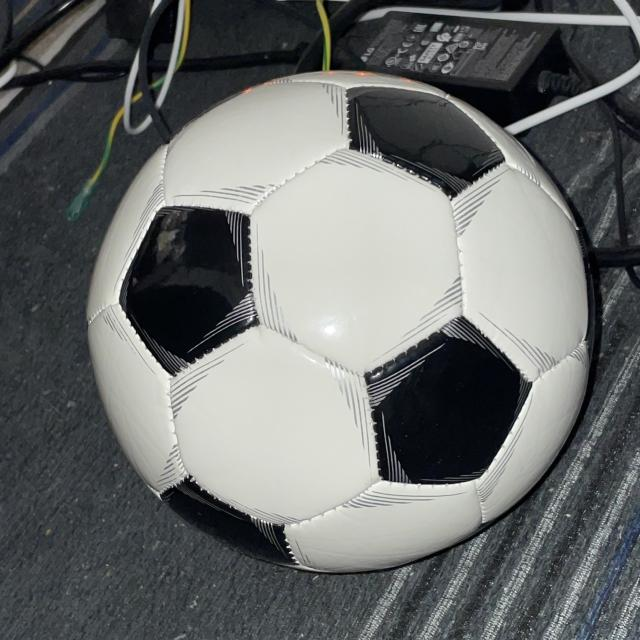ball: (85, 72, 595, 576)
